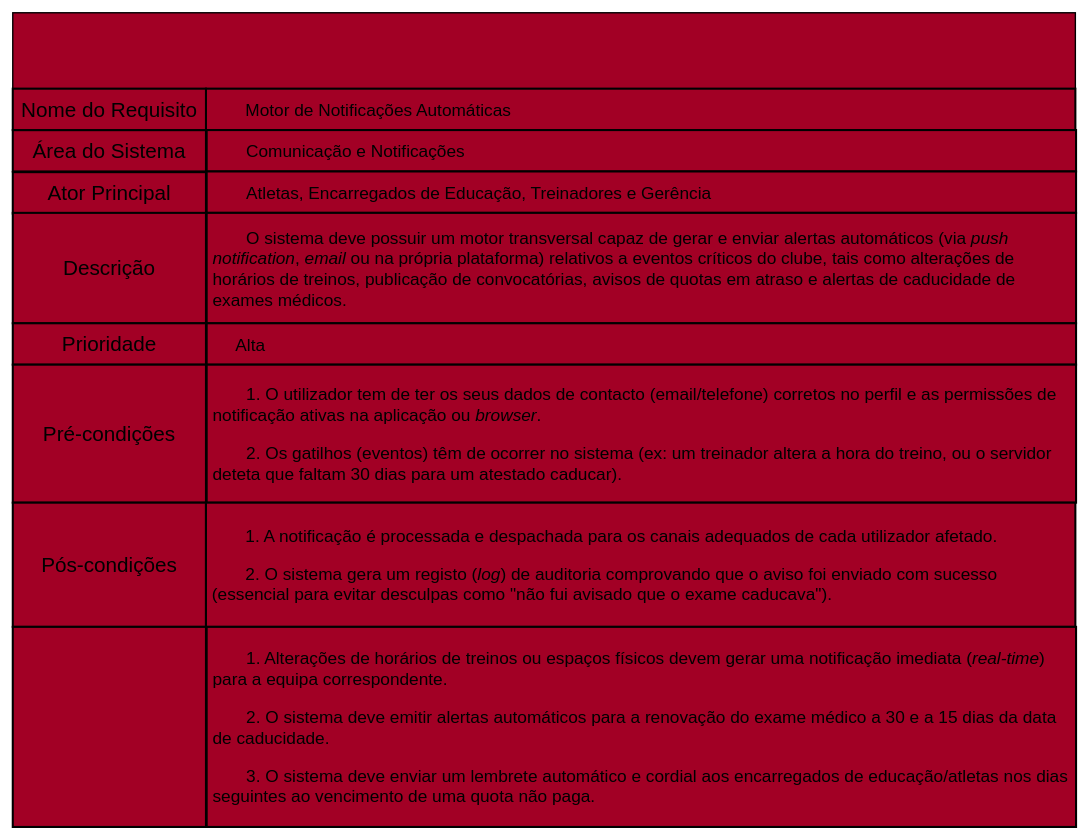
Image size: 1089x840. Some labels were removed from this diagram. Each missing label, with the box of its shape:
Critérios de Aceitação: (11, 625, 207, 828)
RF-04: (12, 12, 1076, 89)
